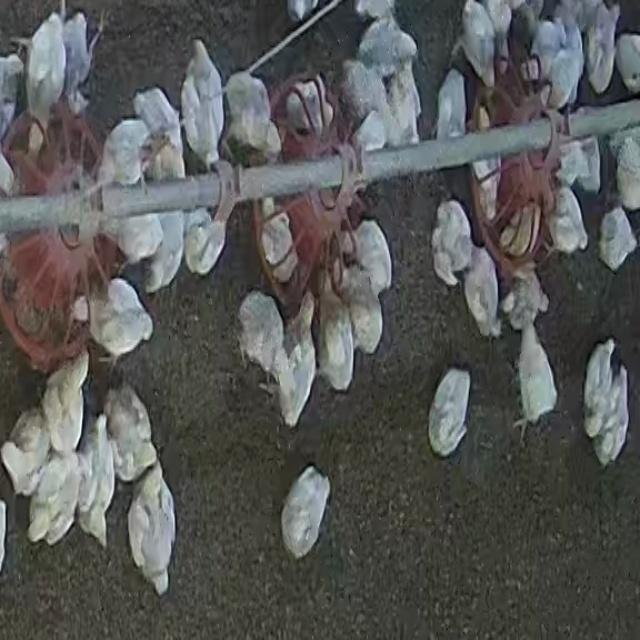chicken: (129, 464, 177, 591), (94, 173, 160, 261), (87, 275, 152, 363), (26, 454, 84, 546), (40, 353, 90, 458), (75, 412, 115, 542), (103, 384, 156, 478), (278, 468, 330, 563), (25, 13, 67, 129), (282, 296, 318, 424), (518, 320, 557, 437), (341, 58, 393, 142), (95, 118, 153, 193), (237, 290, 285, 379), (316, 289, 355, 394), (428, 368, 473, 459), (188, 44, 222, 164), (355, 14, 417, 78), (227, 74, 273, 159), (1, 419, 48, 497), (138, 214, 185, 292), (60, 9, 98, 104), (430, 199, 472, 284), (544, 24, 584, 112), (463, 249, 501, 339), (582, 3, 619, 94), (458, 2, 497, 87), (384, 66, 424, 146), (592, 375, 627, 466), (346, 272, 383, 358), (351, 218, 393, 293), (582, 340, 616, 432), (142, 91, 186, 162), (503, 270, 549, 336), (548, 185, 589, 255), (186, 216, 228, 278), (598, 205, 638, 270), (287, 78, 331, 137), (469, 146, 502, 223), (434, 69, 467, 143), (260, 210, 298, 272), (531, 17, 563, 78), (615, 136, 640, 210), (1, 52, 25, 126), (574, 134, 602, 194), (486, 0, 515, 48)
